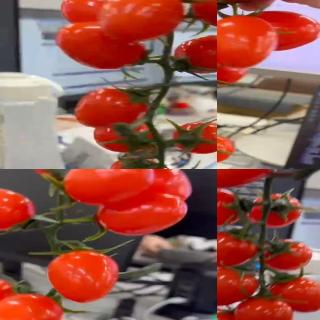tomato: (92, 189, 186, 238), (56, 23, 151, 68), (49, 251, 123, 305), (100, 0, 187, 45), (228, 10, 320, 52), (63, 169, 154, 207), (72, 87, 150, 129), (217, 16, 276, 70), (263, 275, 320, 312), (93, 121, 158, 153), (138, 169, 195, 205), (246, 195, 304, 229), (0, 184, 40, 230), (0, 292, 62, 320), (171, 36, 217, 73), (217, 228, 259, 268), (217, 267, 259, 306), (60, 0, 120, 26), (261, 241, 313, 271), (172, 121, 217, 155), (234, 295, 294, 320), (28, 169, 97, 187), (217, 169, 276, 190), (217, 186, 243, 227), (0, 277, 19, 314), (109, 156, 163, 169), (217, 134, 236, 164)
